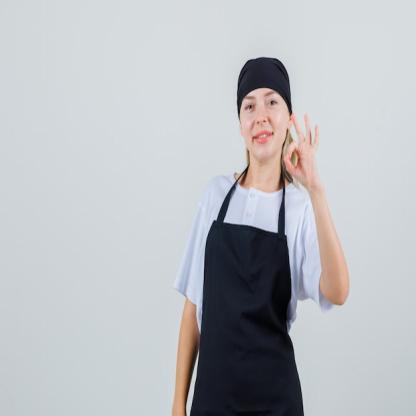ok: (283, 110, 322, 185)
